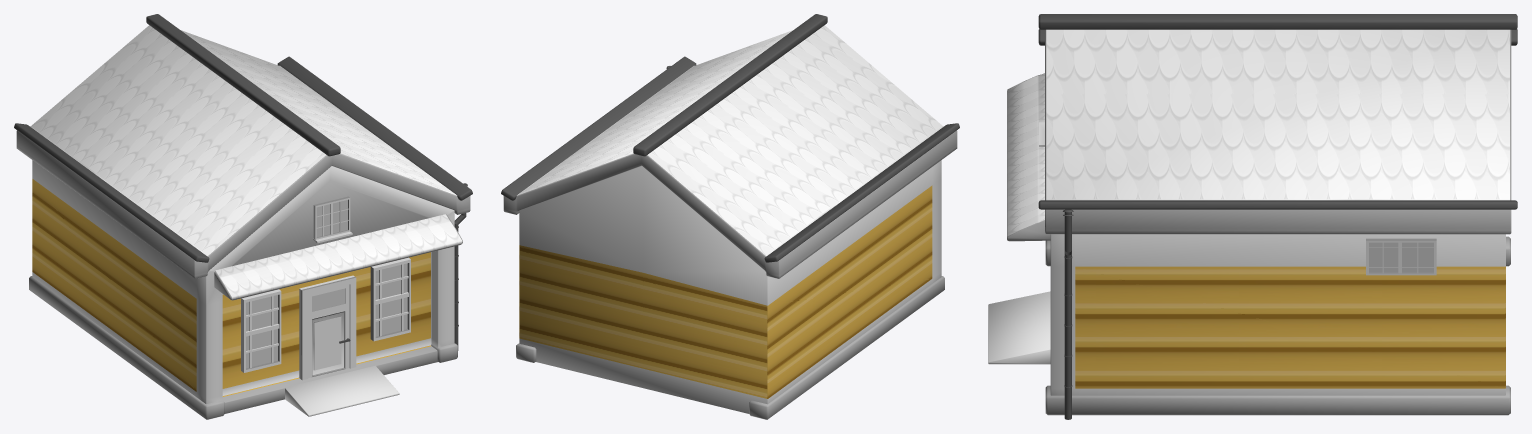
The model's file is House.fbx.
3 renders of one model, left to right at view 1: azimuth 30°, elevation 25°; view 2: azimuth 150°, elevation 25°; view 3: azimuth 270°, elevation 25°, orthographic. The views are drawn at different scales.
Visible parts, largest first — view 1: House1; view 2: House1; view 3: House1.
Boxes of the visible parts, <box> form: House1: <box>14,14,472,419</box>; House1: <box>501,14,959,419</box>; House1: <box>988,14,1517,419</box>.
Size of the model in its own units: 451 by 372 by 560.
